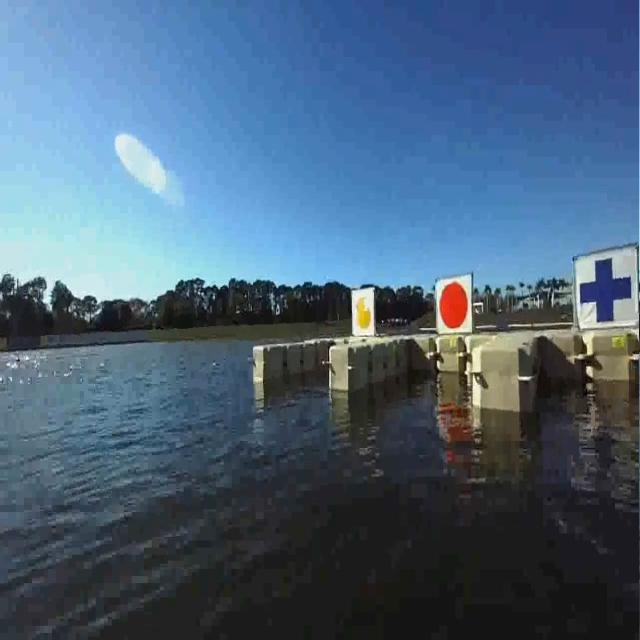blue-cross: (572, 250, 636, 328)
red-dot: (434, 280, 472, 332)
yellow-duck: (351, 288, 376, 334)
